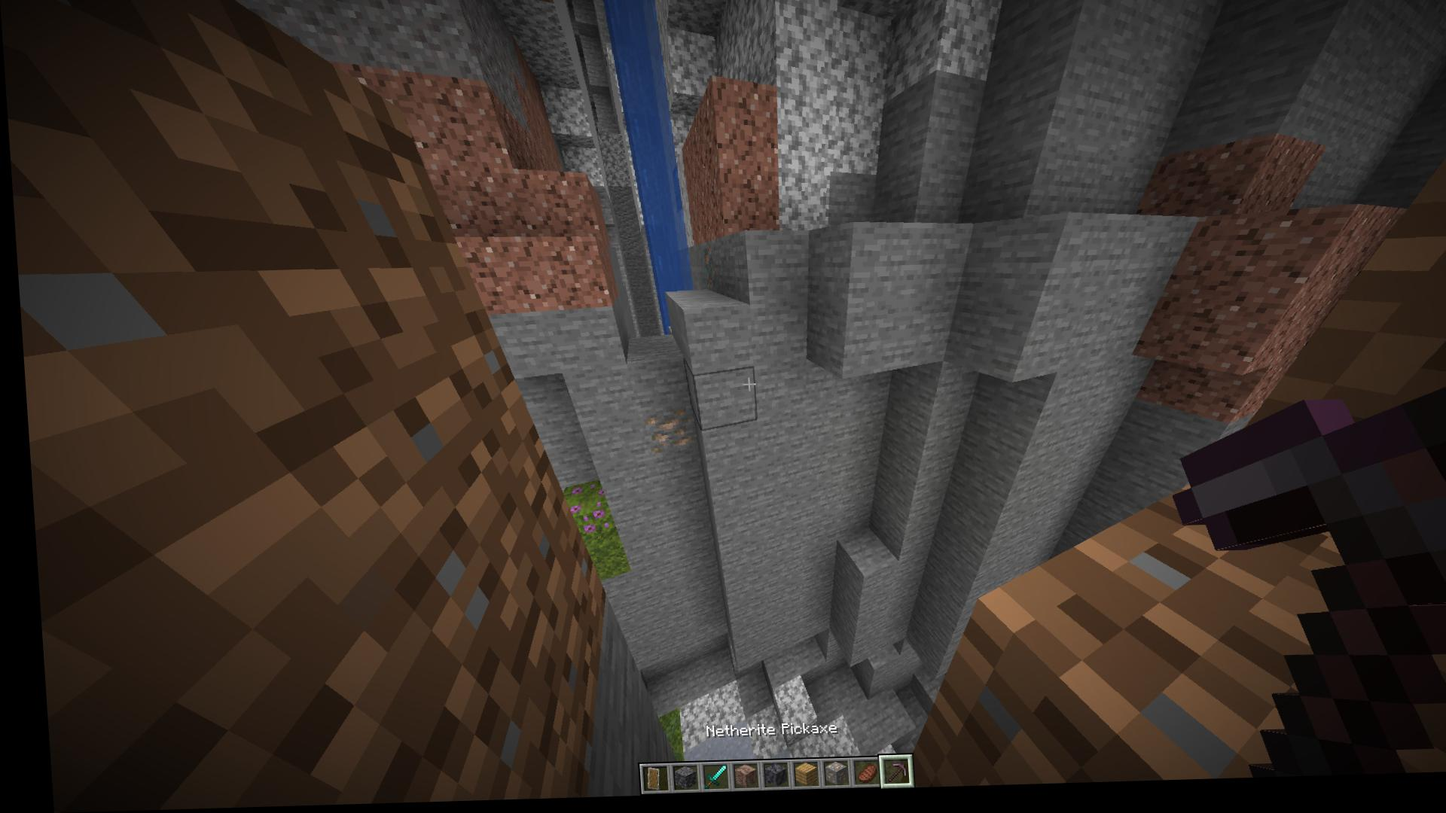iron ore: (636, 411, 686, 460)
